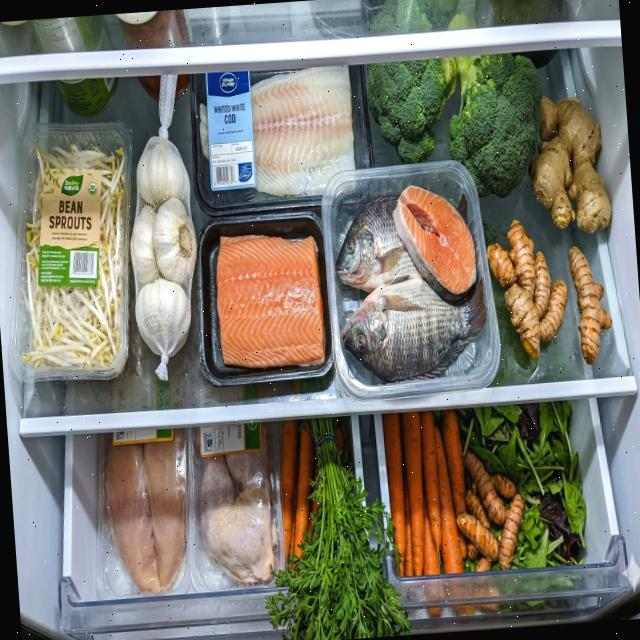bean_sprouts: (8, 132, 140, 370)
brocolli: (360, 0, 549, 207)
carrot: (381, 407, 472, 579), (276, 418, 322, 576)
chicken: (100, 428, 198, 596), (194, 422, 282, 588)
fish: (329, 180, 492, 386), (195, 64, 358, 202), (212, 228, 326, 371)
garlic: (122, 140, 204, 357)
ginger: (522, 90, 613, 238)
turmeric: (484, 216, 572, 362), (451, 447, 528, 574), (568, 242, 614, 365)
